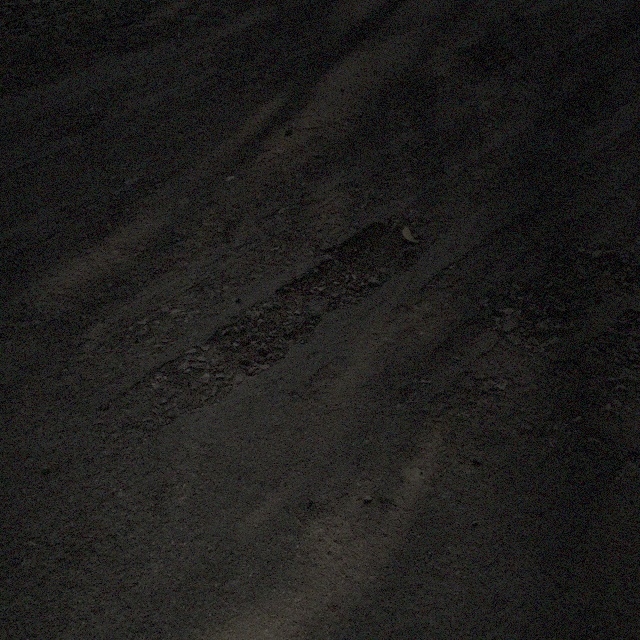pothole: (207, 215, 437, 378), (485, 241, 639, 349), (580, 306, 639, 372), (448, 38, 519, 89)
